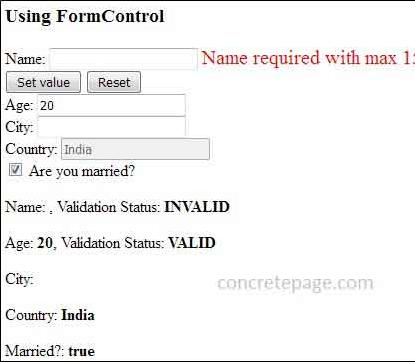button: (4, 70, 81, 94), (86, 70, 142, 94)
checkbox: (7, 161, 24, 178)
checkbox_with_label: (6, 161, 136, 179)
field: (47, 46, 200, 71), (33, 93, 187, 117), (33, 116, 188, 139), (59, 138, 213, 161)
field_with_label: (6, 45, 201, 72), (7, 137, 215, 162), (3, 116, 190, 140), (4, 94, 188, 116)
